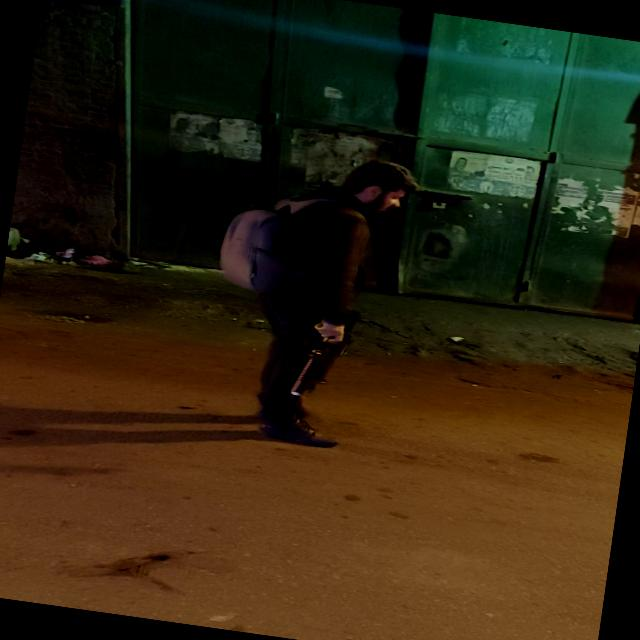long weapon: (270, 306, 372, 420)
